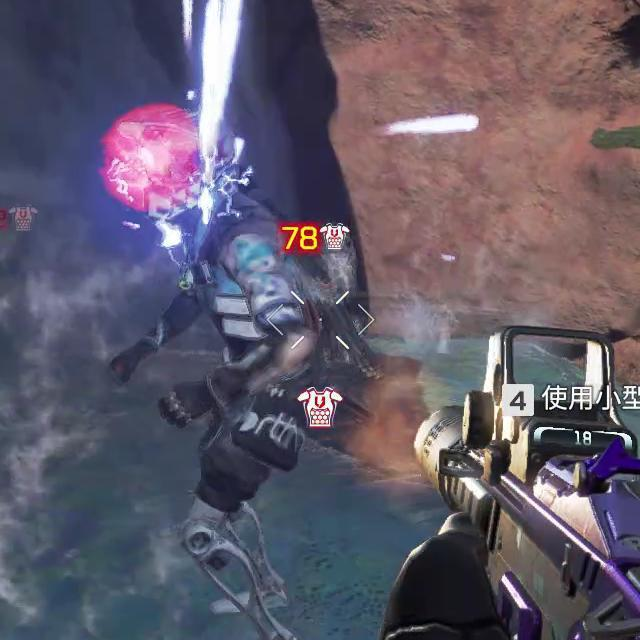avatar: (106, 215, 326, 640)
object: (101, 103, 205, 214)
